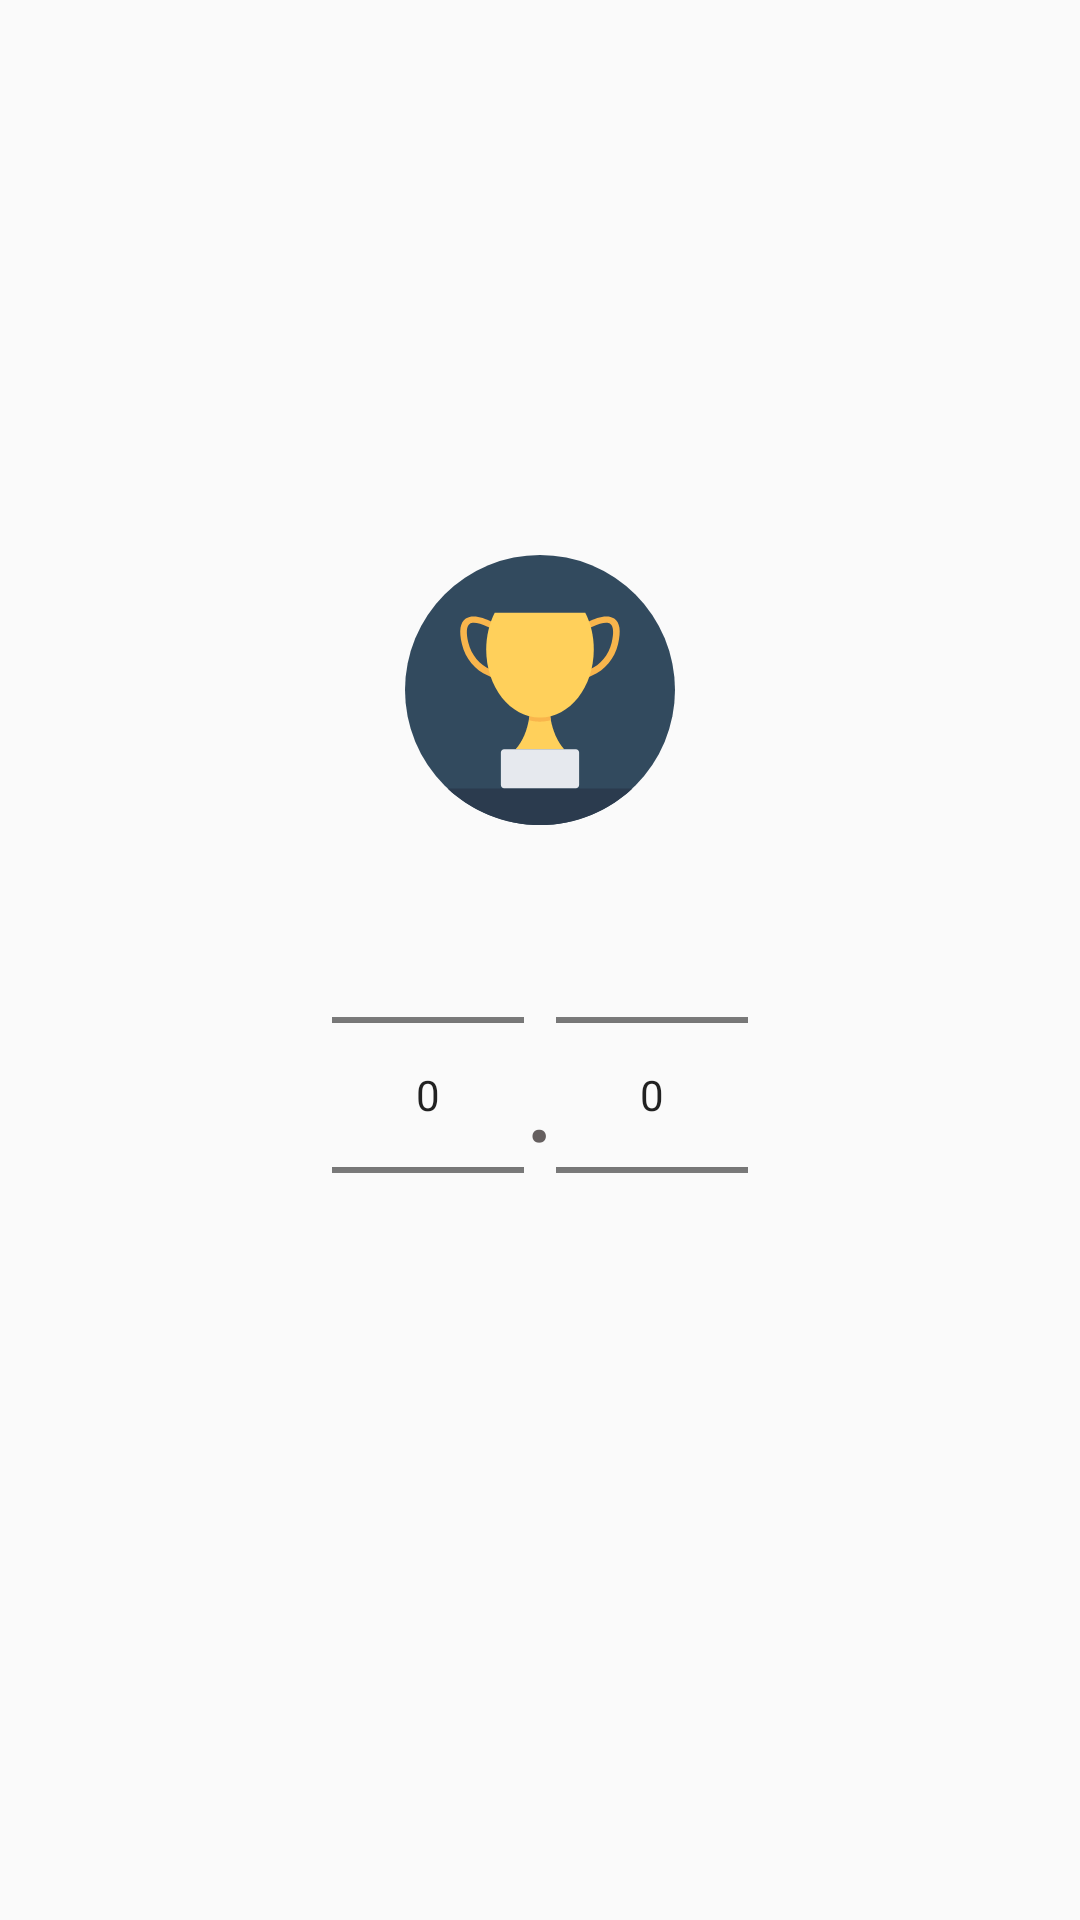

Screen size 1080×1920. Icon name, then its box in pixels as (x1, y1, x2, y2):
cup: (405, 555, 675, 825)
